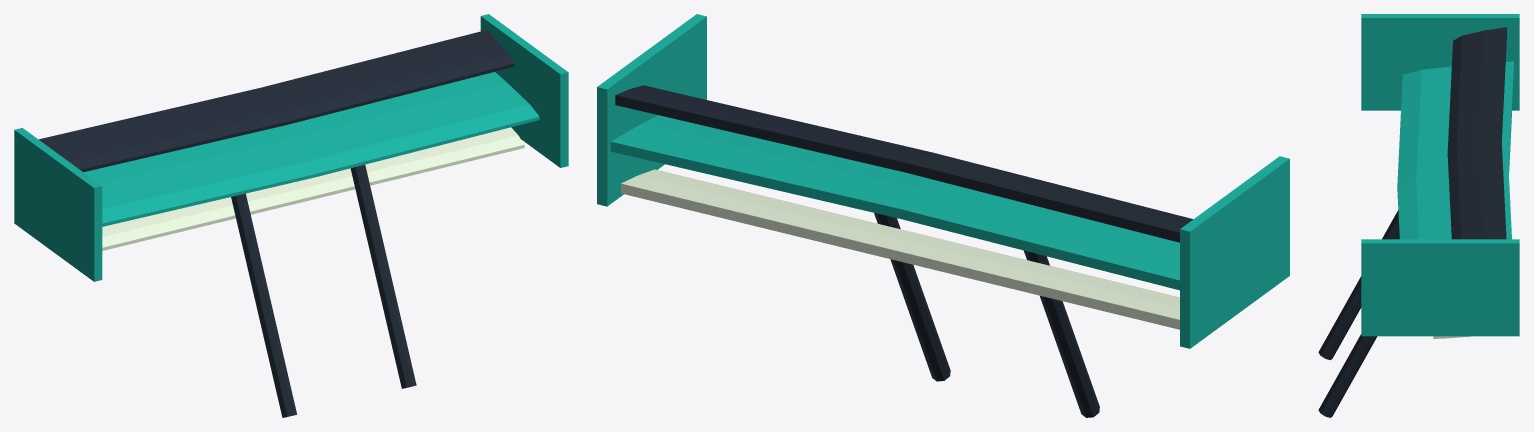
3 renders of one model, left to right at view 1: azimuth 30°, elevation 25°; view 2: azimuth 150°, elevation 25°; view 3: azimuth 270°, elevation 25°, orthographic. The views are drawn at different scales.
Visible parts, largest first — view 1: RearWing; view 2: RearWing; view 3: RearWing.
Boxes of the visible parts, left/top/right/bottom form: RearWing: left=14, top=14, right=568, bottom=417; RearWing: left=597, top=14, right=1289, bottom=417; RearWing: left=1318, top=14, right=1519, bottom=417.
Size of the model in its own units: 1.51 by 0.795 by 0.5596.
